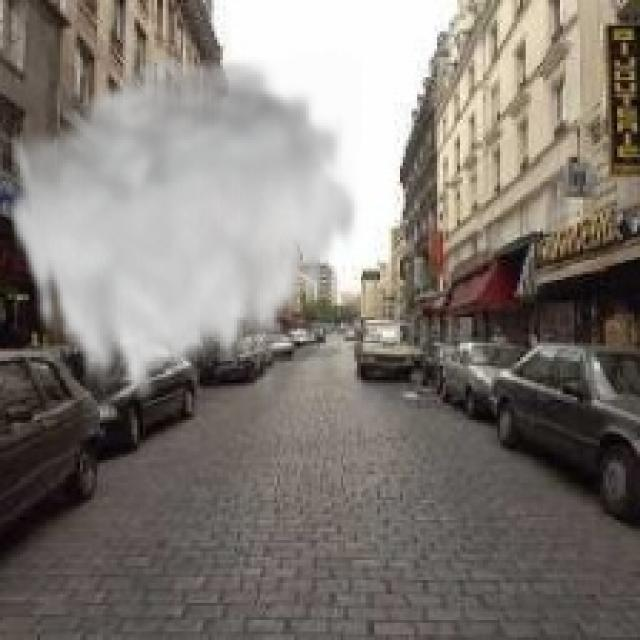Smoke: (6, 46, 363, 414)
